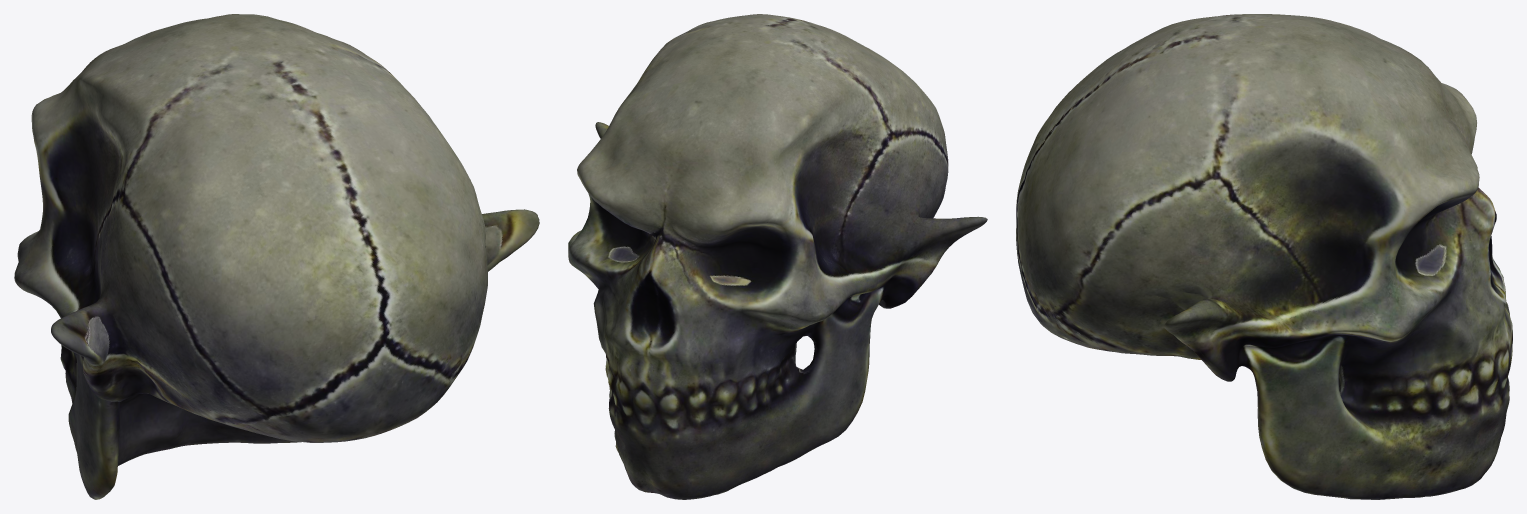
File: 0c48847b8ac4_A_goblins_skull_min.fbx
3 views of the same model, side by side, from view 1: azimuth 30°, elevation 25°; view 2: azimuth 150°, elevation 25°; view 3: azimuth 270°, elevation 25° (orthographic). The views are drawn at different scales.
Parts seen in each view (by area): view 1: mesh; view 2: mesh; view 3: mesh.
Part boxes in pixels (x1,y1,x2,y2): mesh: (14,14,539,499); mesh: (568,14,987,499); mesh: (1016,14,1512,499).
Bounding box in the file's own units: 99.03 × 94.45 × 96.57.
